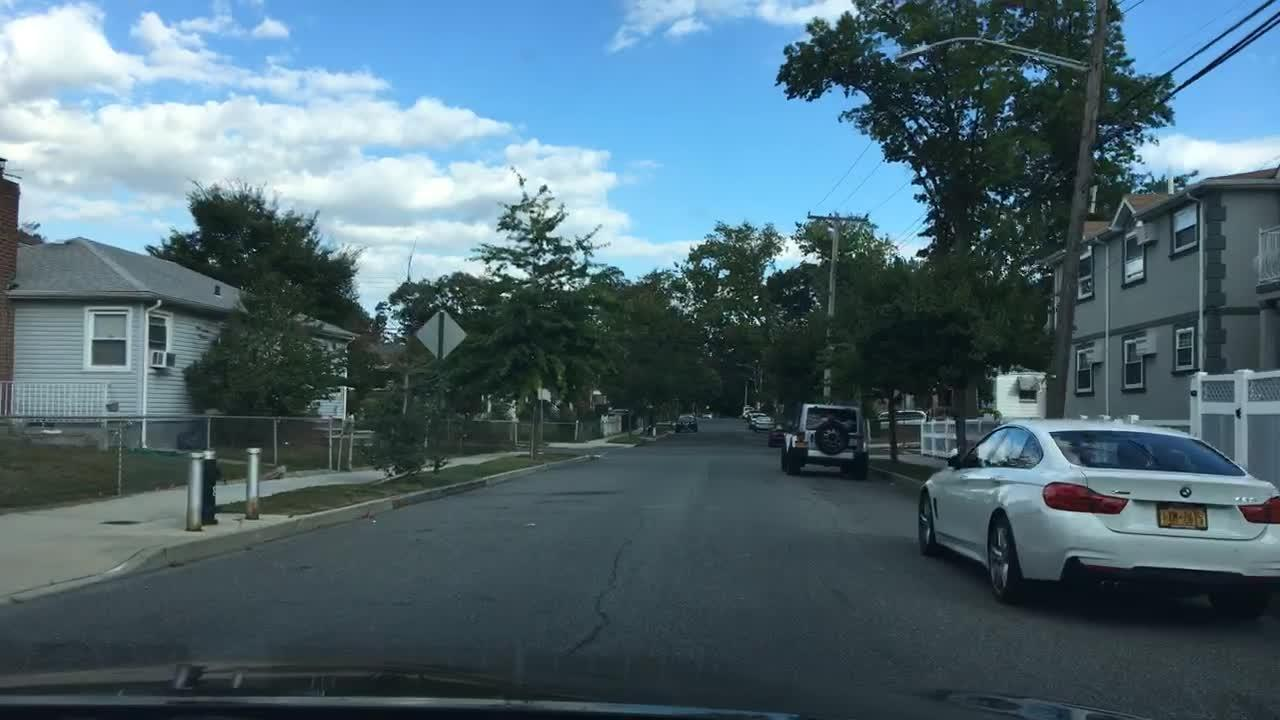bmw: (1177, 483, 1198, 501)
